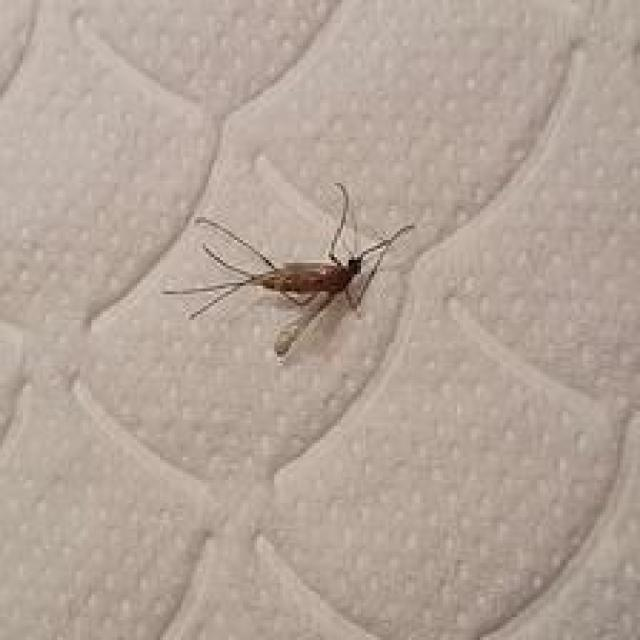Culex: (161, 180, 416, 360)
